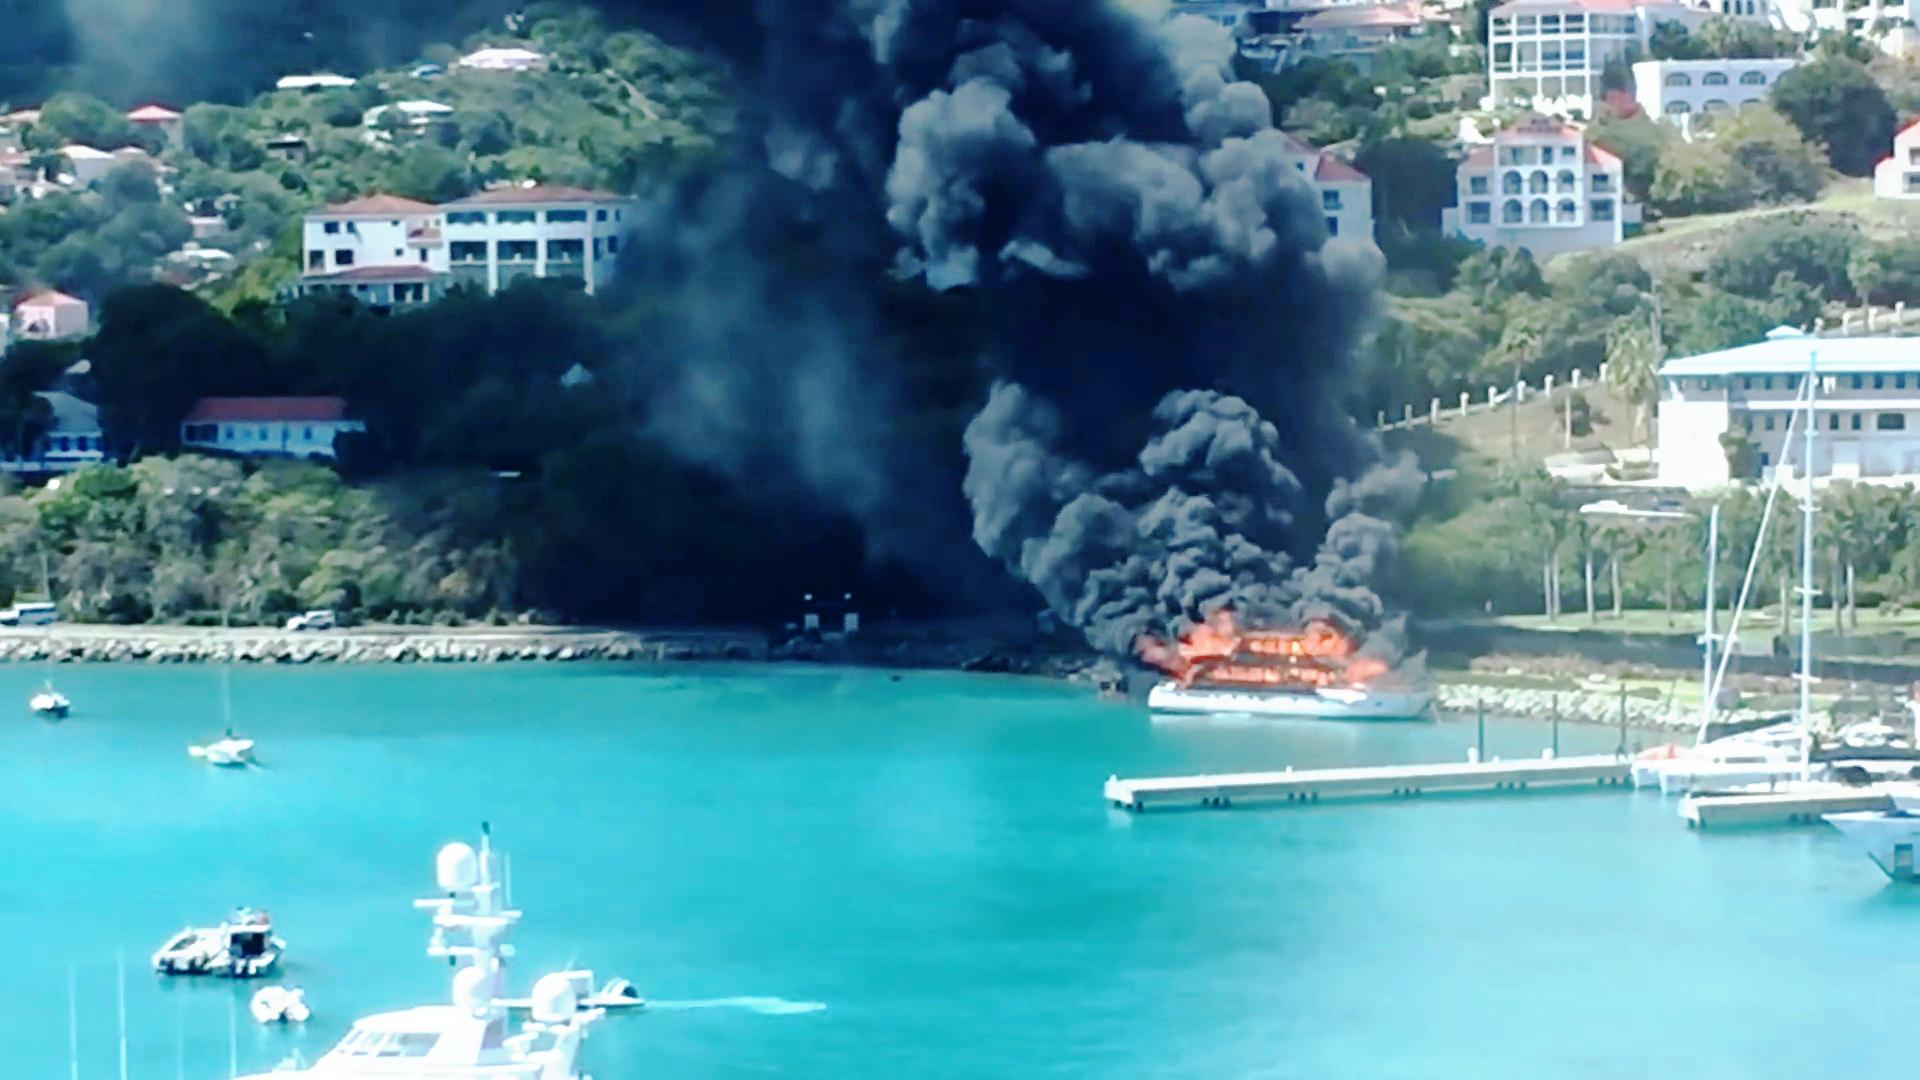fire: (1179, 595, 1361, 702)
smoke: (789, 54, 1168, 514)
